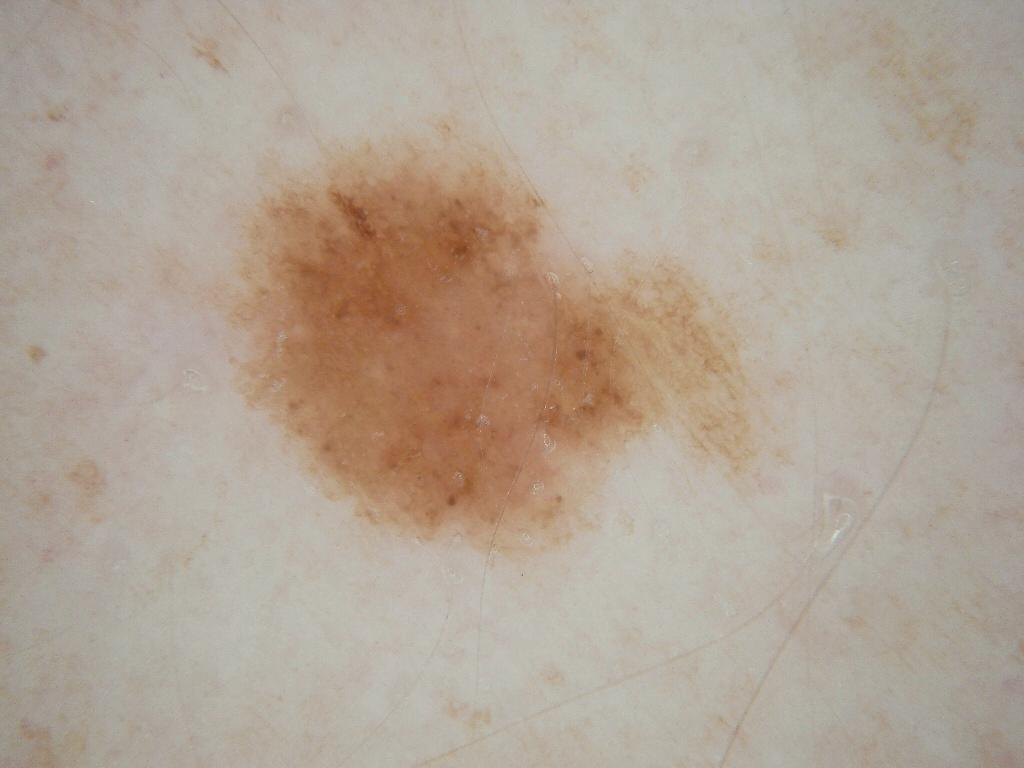Detected Lesion: (229, 124, 773, 552)
